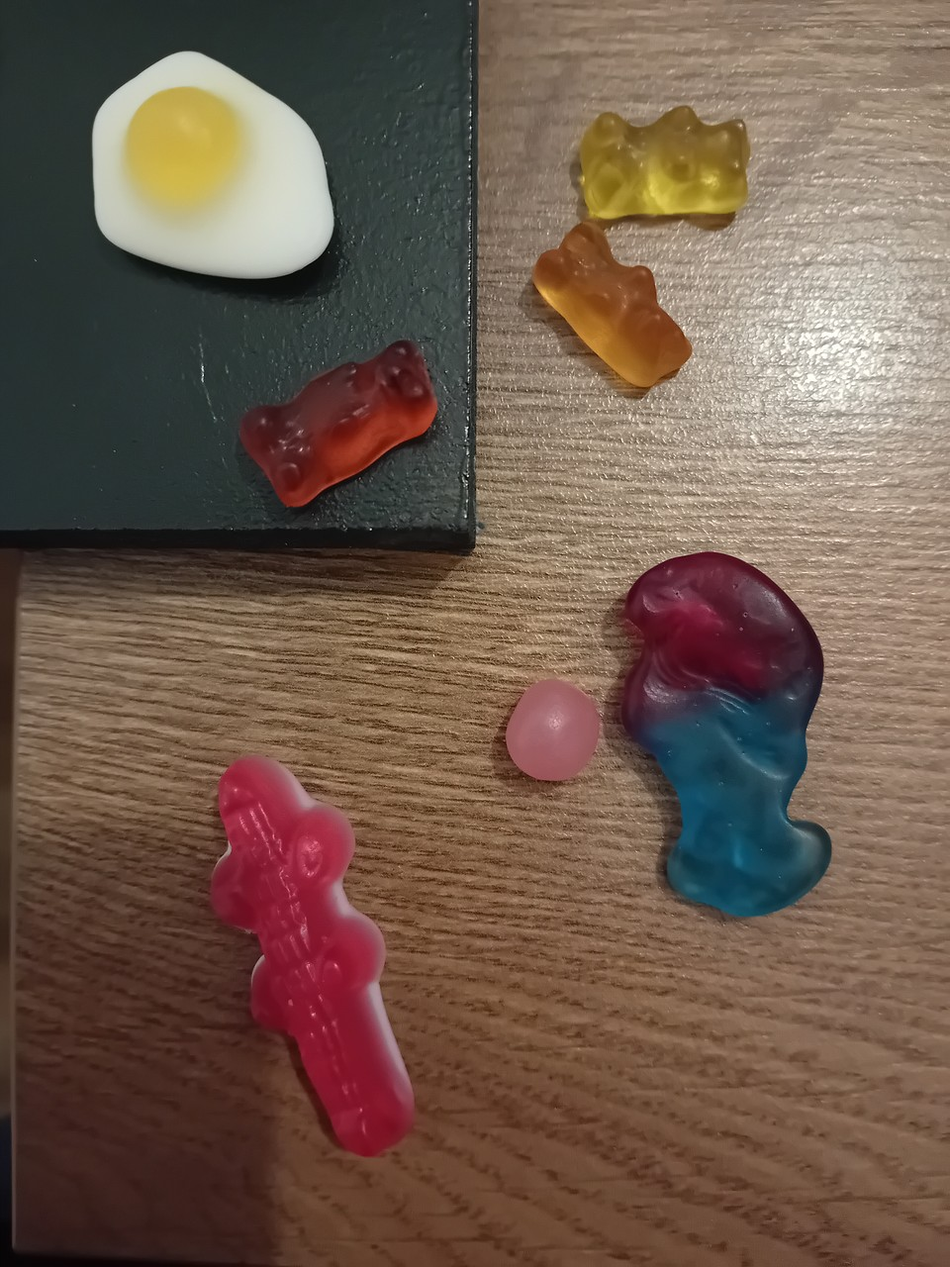crocodile_rouge: (198, 749, 428, 1164)
dragibus_rose: (504, 669, 608, 785)
oeuf_oeuf: (72, 45, 342, 290)
ourson_jaune: (572, 99, 759, 221)
ourson_orangeClair: (522, 216, 702, 394)
ourson_orangeFonce: (230, 333, 443, 517)
schtroumpf_bleu-rouge: (612, 544, 840, 923)
